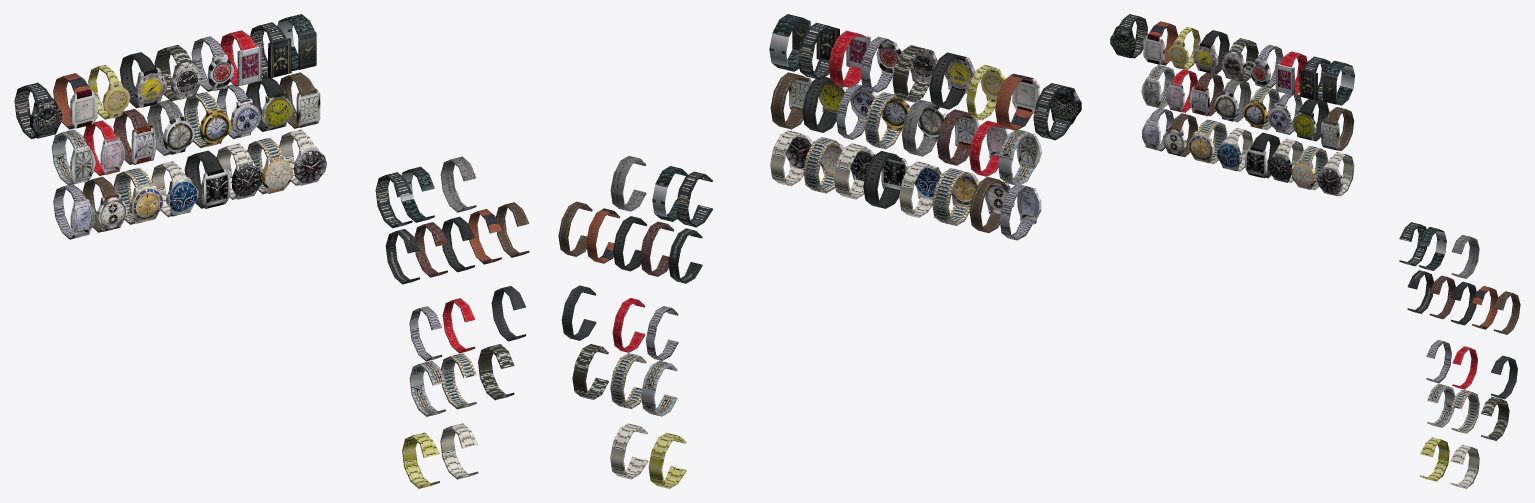
File: watches.FBX
3 renders of one model, left to right at view 1: azimuth 30°, elevation 25°; view 2: azimuth 150°, elevation 25°; view 3: azimuth 330°, elevation 25°, orthographic. The views are drawn at different scales.
Parts seen in each view (by area): view 1: Loft42, Loft23, Loft20, Loft41, Loft39, Loft26, Loft38, Loft30, Loft21, Loft29, Loft22, Object03 (+29 smaller); view 2: Loft42, Loft23, Loft20, Loft41, Loft38, Loft39, Loft26, Loft30, Loft29, Loft21, Loft32, Loft36 (+29 smaller); view 3: Loft23, Loft42, Loft21, Loft34, Loft38, Loft33, Loft39, Object03, Loft20, Loft32, Loft41, Loft29 (+29 smaller).
Boxes of the visible parts, x1,y1,x2,y2 form: Loft42: [14, 82, 62, 139]; Loft23: [113, 168, 163, 224]; Loft20: [184, 150, 230, 208]; Loft41: [53, 73, 97, 129]; Loft39: [119, 52, 166, 108]; Loft26: [51, 129, 95, 185]; Loft38: [154, 45, 201, 101]; Loft30: [183, 92, 231, 148]; Loft21: [279, 129, 326, 185]; Loft29: [147, 99, 194, 155]; Loft22: [151, 161, 198, 217]; Object03: [247, 137, 292, 194]; Loft42: [1033, 83, 1081, 140]; Loft23: [932, 168, 979, 225]; Loft20: [863, 151, 909, 208]; Loft41: [995, 73, 1039, 130]; Loft38: [892, 45, 937, 102]; Loft39: [929, 52, 975, 109]; Loft26: [998, 129, 1041, 186]; Loft30: [864, 92, 910, 149]; Loft29: [901, 99, 946, 156]; Loft21: [770, 130, 812, 186]; Loft32: [802, 77, 847, 132]; Loft36: [828, 30, 870, 87]; Loft23: [1188, 119, 1227, 163]; Loft42: [1110, 14, 1148, 58]; Loft21: [1317, 152, 1354, 195]; Loft34: [1322, 60, 1355, 105]; Loft38: [1221, 38, 1258, 82]; Loft33: [1321, 107, 1354, 150]; Loft39: [1193, 30, 1229, 74]; Object03: [1292, 145, 1328, 190]; Loft20: [1245, 132, 1280, 178]; Loft32: [1292, 99, 1329, 141]; Loft41: [1143, 21, 1178, 65]; Loft29: [1214, 79, 1251, 122].
Size of the model in its own units: 340 by 324 by 32.42.
